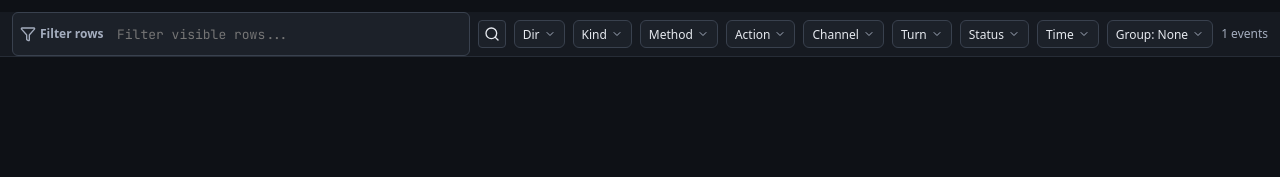
Test: FilterBar › keeps Turn operable while every Channel is visible
The image size is (1280, 177).
Step 1. Click the button "Turn" → (922, 34), box [892, 20, 952, 48]
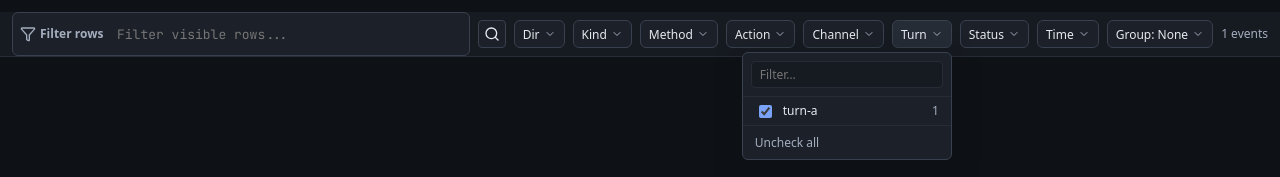
Expected: the checkbox labelled "turn-a 1" is shown, [759, 104, 772, 118]
